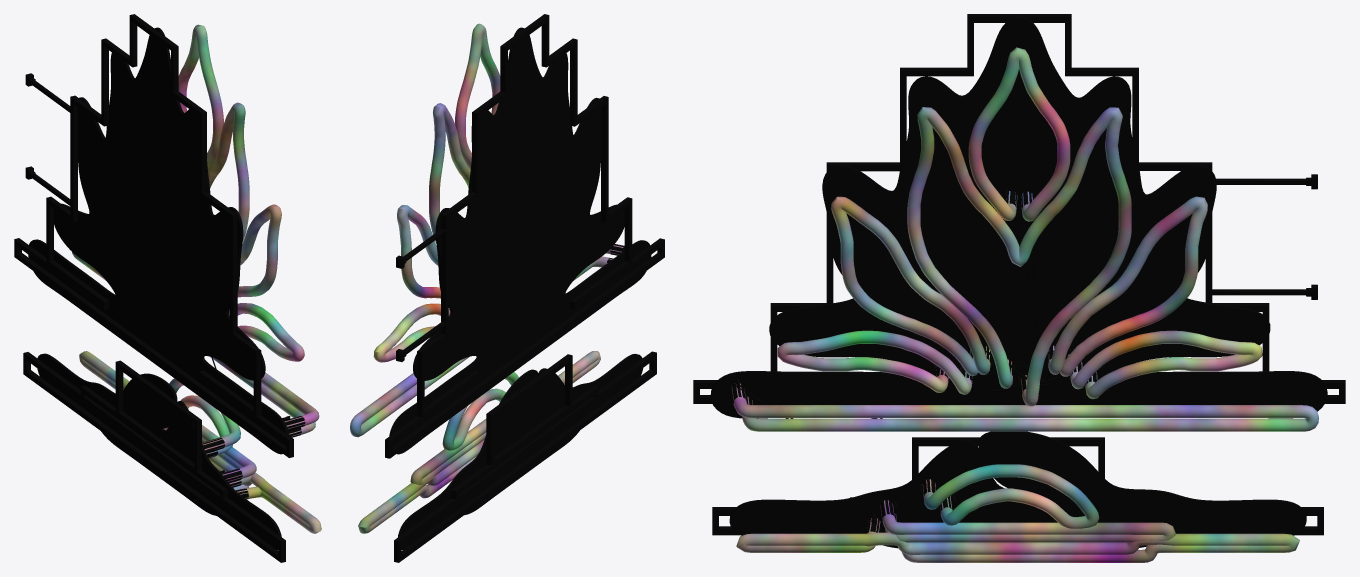
The model's file is neonsign_03.fbx.
The picture shows the model from 3 angles, left to right: view 1: azimuth 30°, elevation 25°; view 2: azimuth 150°, elevation 25°; view 3: azimuth 270°, elevation 25°; orthographic projection. The views are drawn at different scales.
Parts seen in each view (by area): view 1: neonsign_03; view 2: neonsign_03; view 3: neonsign_03.
Boxes of the visible parts, x1,y1,x2,y2 form: neonsign_03: (14,14,321,562); neonsign_03: (350,14,664,562); neonsign_03: (693,14,1345,562).
Bounding box in the file's own units: 0.2194 × 1.76 × 1.95.
